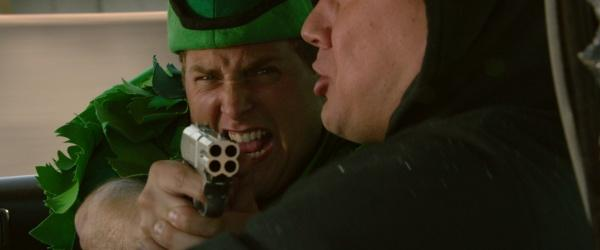Gun: (180, 123, 241, 217)
